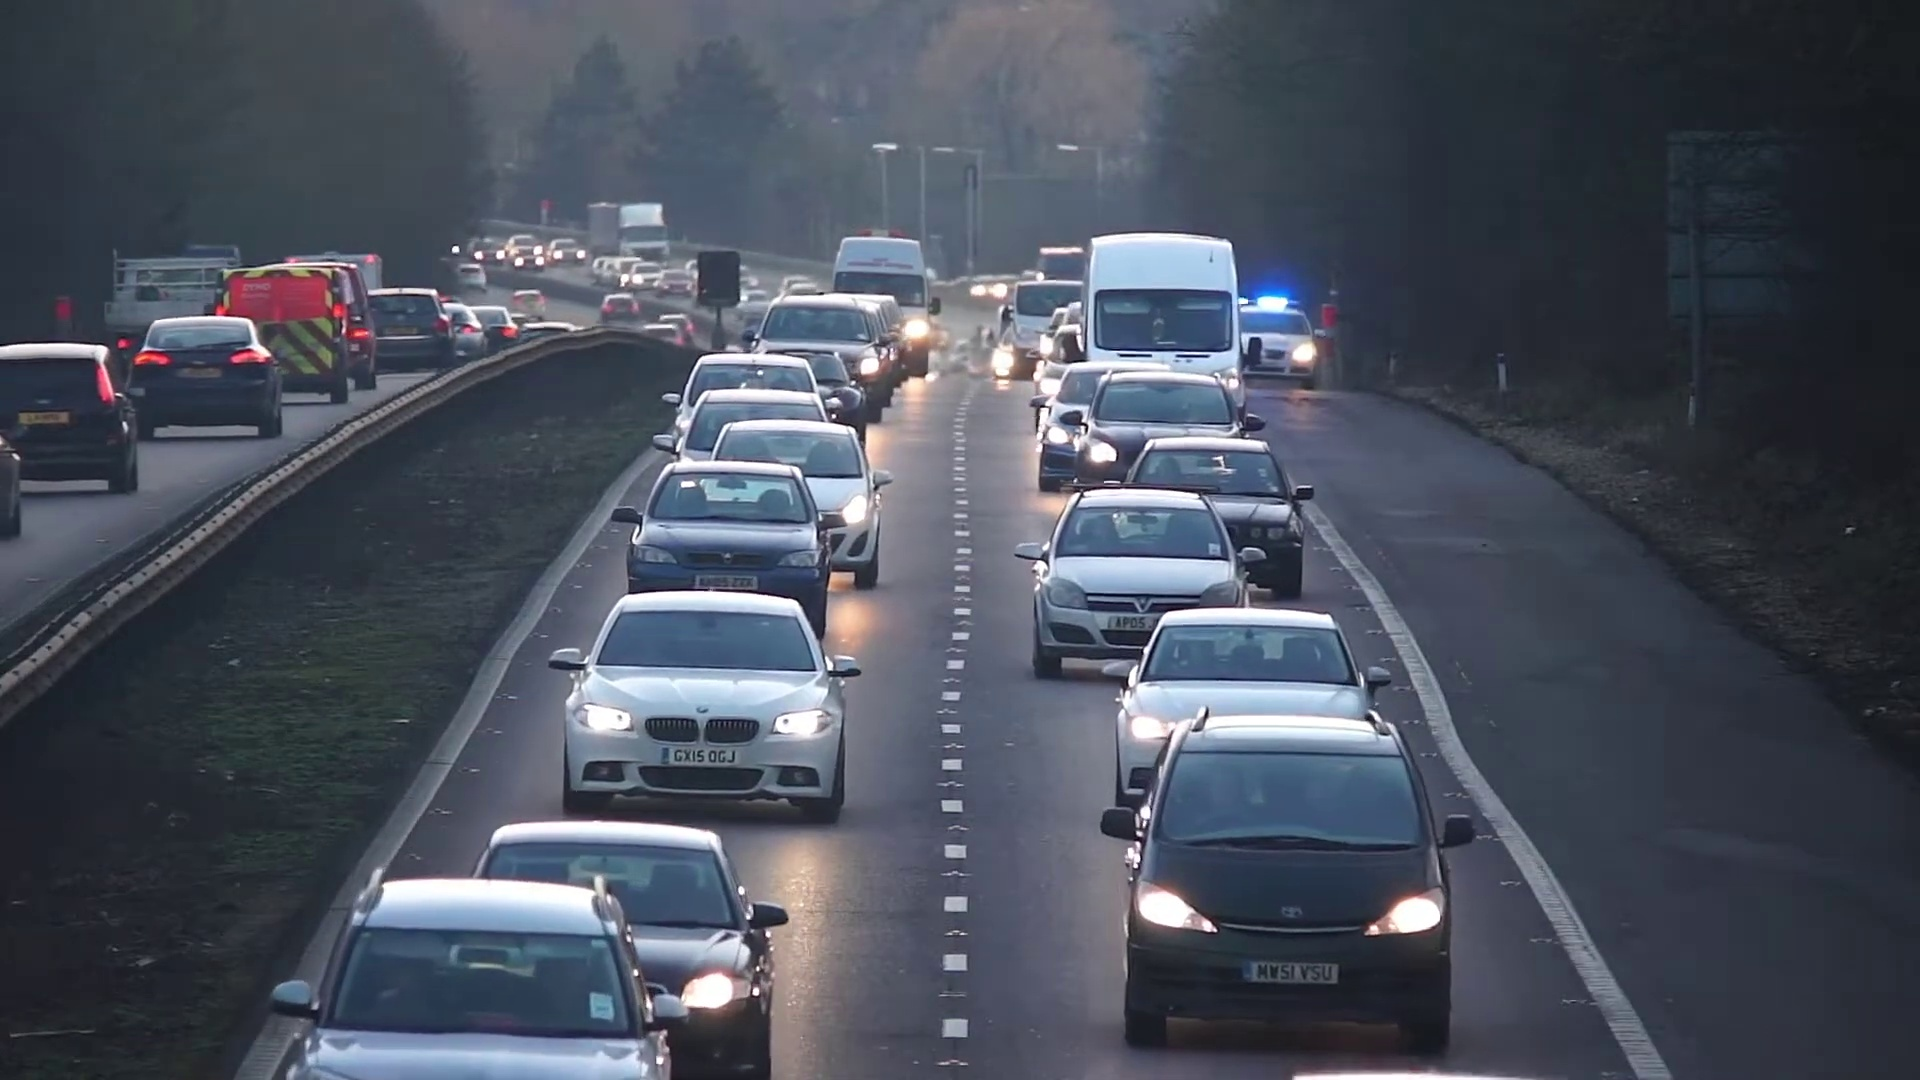license_plate: (1250, 962, 1342, 987), (693, 569, 763, 594), (660, 746, 743, 766), (1108, 613, 1150, 630)
